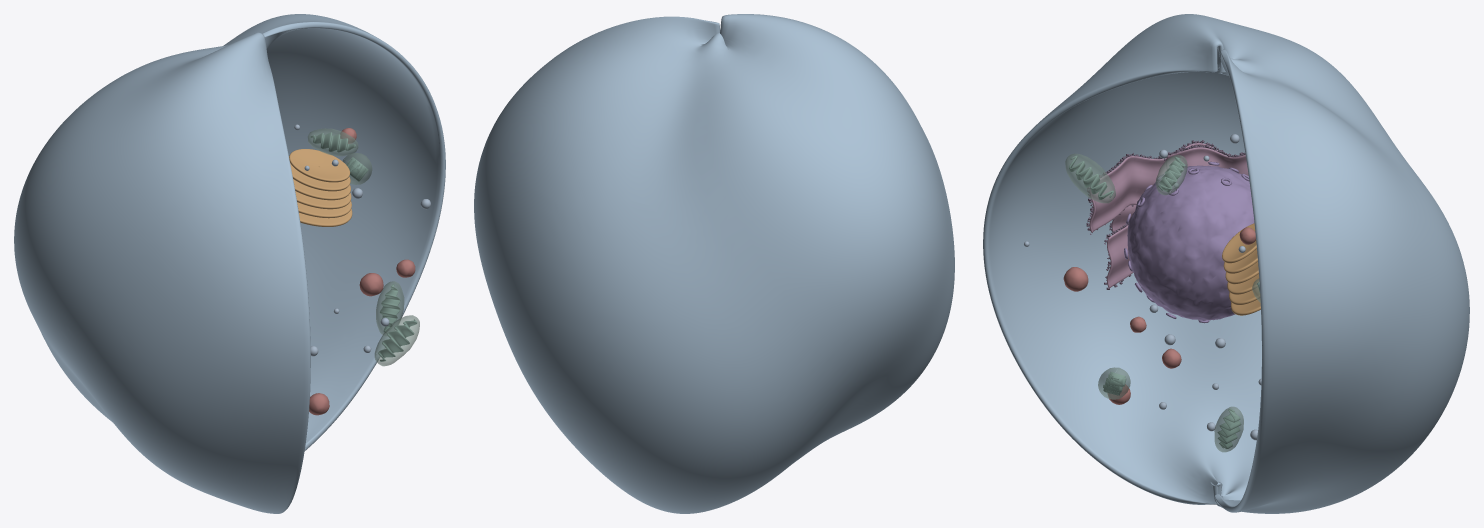
The model's file is cell.glb.
3 views of the same model, side by side, from view 1: azimuth 30°, elevation 25°; view 2: azimuth 150°, elevation 25°; view 3: azimuth 270°, elevation 25° (orthographic). The views are drawn at different scales.
Parts seen in each view (by area): view 1: plasma_membrane, mito_body.002, golgi_5, mito_body.006, mito_body.007, mito_cristae.002, mito_body, golgi_4, golgi_3, mito_cristae.006, golgi_2, mito_cristae.007 (+2 smaller); view 2: plasma_membrane; view 3: plasma_membrane, nuclear_envelope, rough_ER_6, mito_body.005, rough_ER_4, rough_ER_5, mito_body.006, mito_body.007, ribosomes, mito_body.002, mito_cristae.005, golgi_5 (+1 smaller).
Boxes of the visible parts, <box> form: plasma_membrane: <box>14,14,445,513</box>; mito_body.002: <box>374,315,419,366</box>; golgi_5: <box>289,149,350,182</box>; mito_body.006: <box>376,281,404,335</box>; mito_body.007: <box>307,128,358,156</box>; mito_cristae.002: <box>378,319,417,361</box>; mito_body: <box>342,153,372,184</box>; golgi_4: <box>289,156,350,191</box>; golgi_3: <box>293,179,350,200</box>; mito_cristae.006: <box>380,284,400,332</box>; golgi_2: <box>295,191,351,209</box>; mito_cristae.007: <box>310,132,355,152</box>; plasma_membrane: <box>474,14,954,513</box>; plasma_membrane: <box>983,14,1469,513</box>; nuclear_envelope: <box>1127,165,1254,320</box>; rough_ER_6: <box>1089,143,1217,232</box>; mito_body.005: <box>1065,153,1115,203</box>; rough_ER_4: <box>1166,147,1248,175</box>; rough_ER_5: <box>1107,225,1133,288</box>; mito_body.006: <box>1214,406,1243,452</box>; mito_body.007: <box>1155,155,1187,195</box>; ribosomes: <box>1086,140,1245,289</box>; mito_body.002: <box>1098,367,1130,399</box>; mito_cristae.005: <box>1069,155,1113,199</box>; golgi_5: <box>1222,223,1256,263</box>.
Bounding box in the file's own units: 20.78 × 21.76 × 20.37.
